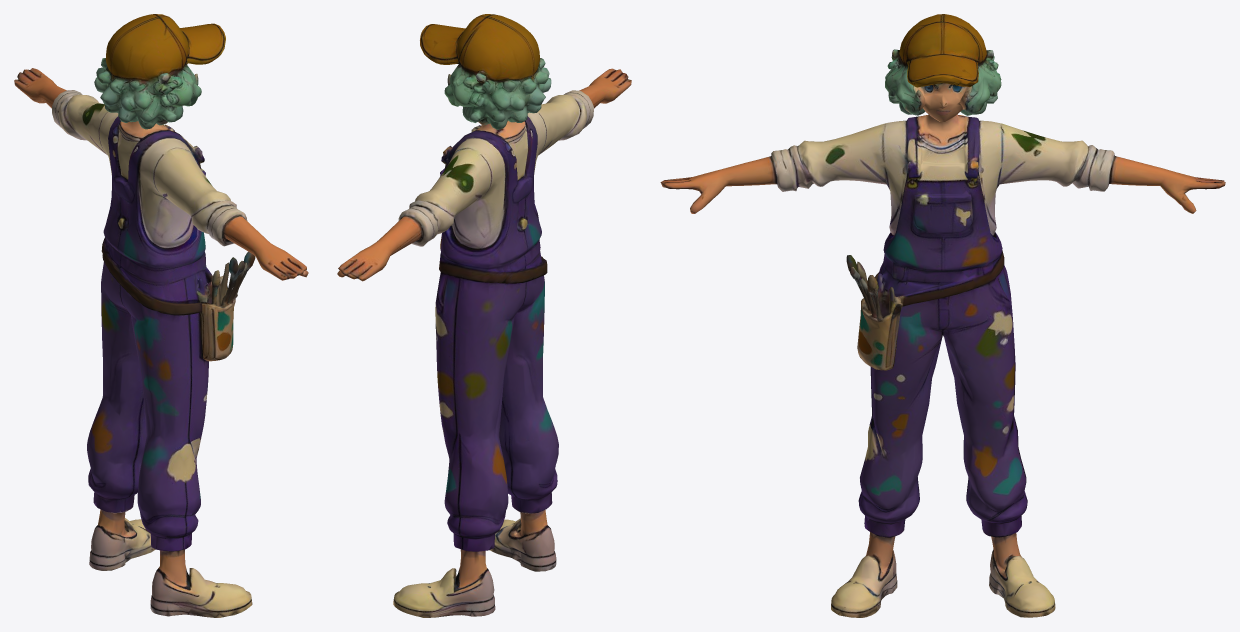
Rendered from n2_muralist.c28325a1.glb.
The picture shows the model from 3 angles, left to right: view 1: azimuth 30°, elevation 25°; view 2: azimuth 150°, elevation 25°; view 3: azimuth 270°, elevation 25°; orthographic projection. The views are drawn at different scales.
Parts seen in each view (by area): view 1: tripo_node_9b04a227-7d99-4377-bf31-692199e045f9; view 2: tripo_node_9b04a227-7d99-4377-bf31-692199e045f9; view 3: tripo_node_9b04a227-7d99-4377-bf31-692199e045f9.
Part boxes in pixels (left/top/right/bottom): tripo_node_9b04a227-7d99-4377-bf31-692199e045f9: left=14, top=14, right=308, bottom=617; tripo_node_9b04a227-7d99-4377-bf31-692199e045f9: left=337, top=14, right=631, bottom=617; tripo_node_9b04a227-7d99-4377-bf31-692199e045f9: left=660, top=14, right=1225, bottom=617.
Bounding box in the file's own units: 0.2219 × 1 × 0.889.
1 material, 1 textured.
